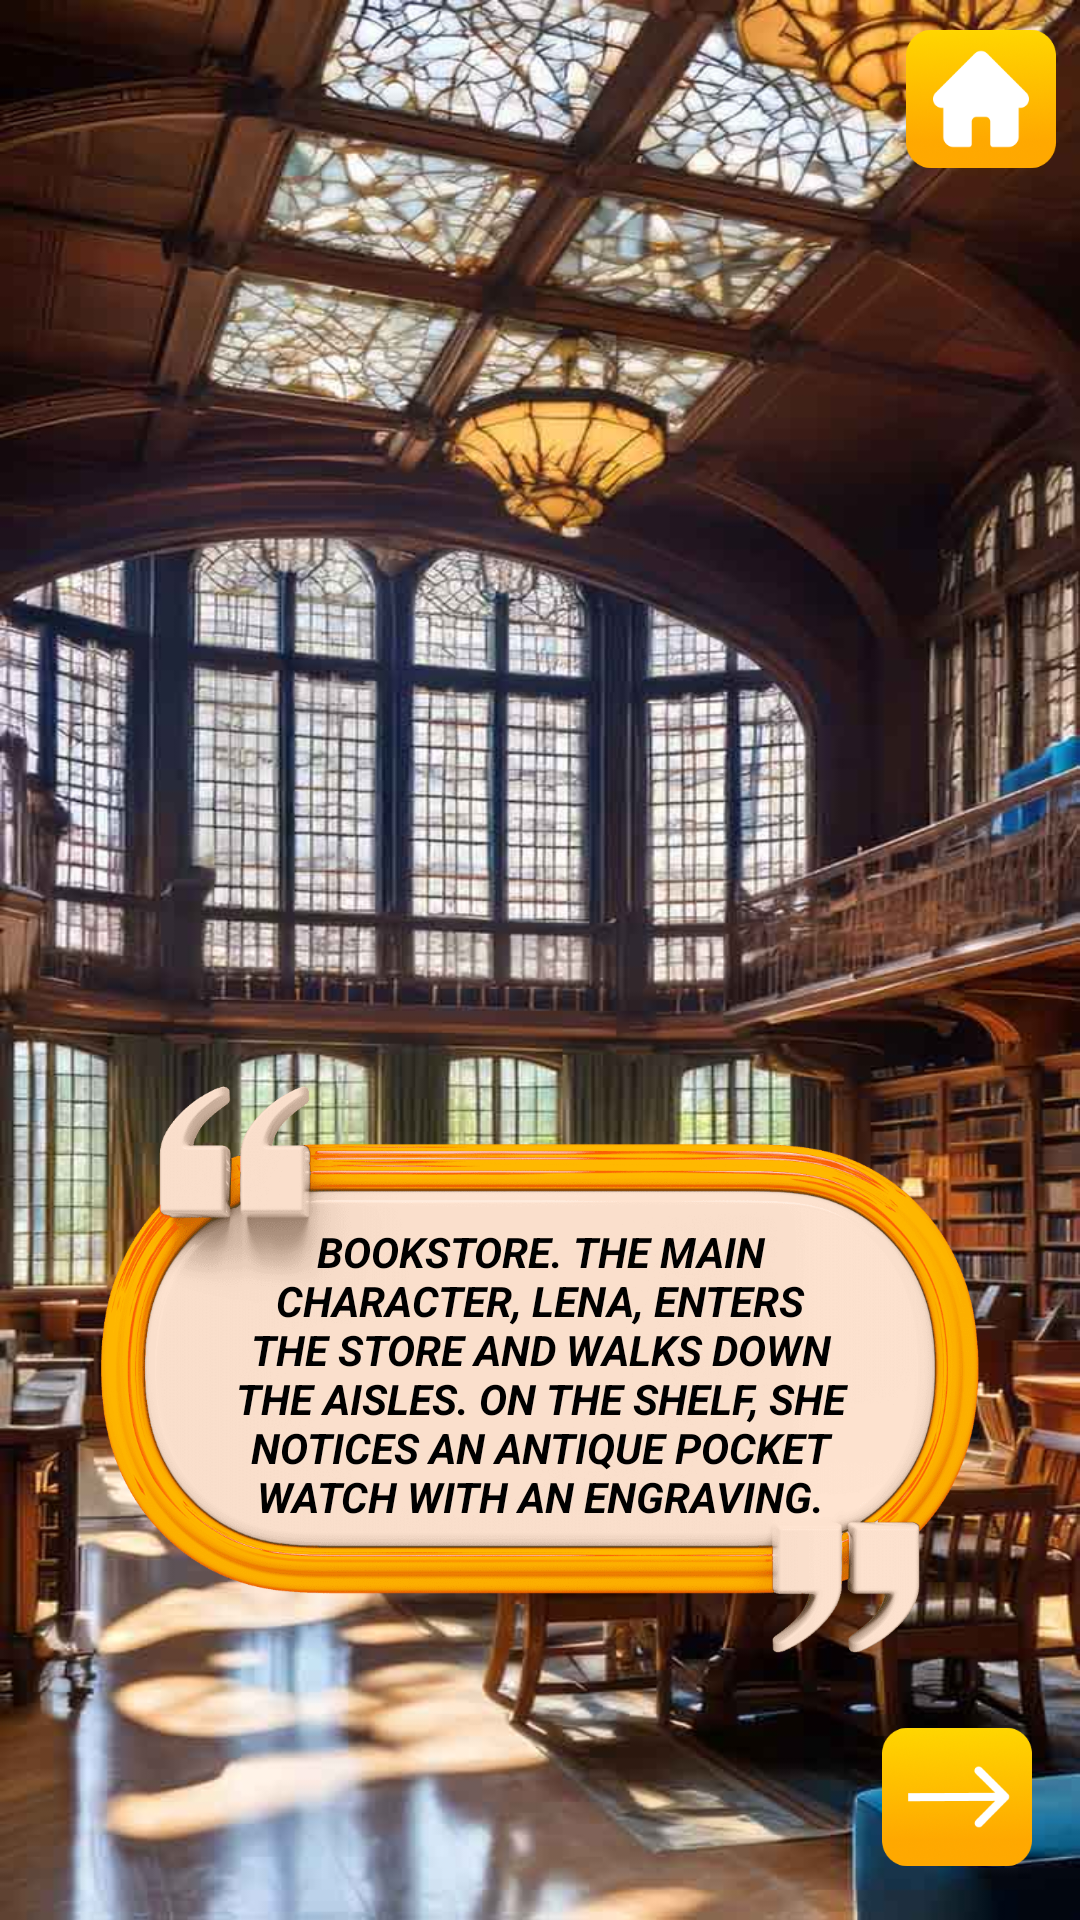

Icons on this 1080 × 1920 Android screen, each with the point to tap as (x,y):
home: (981,99)
next: (957,1797)
